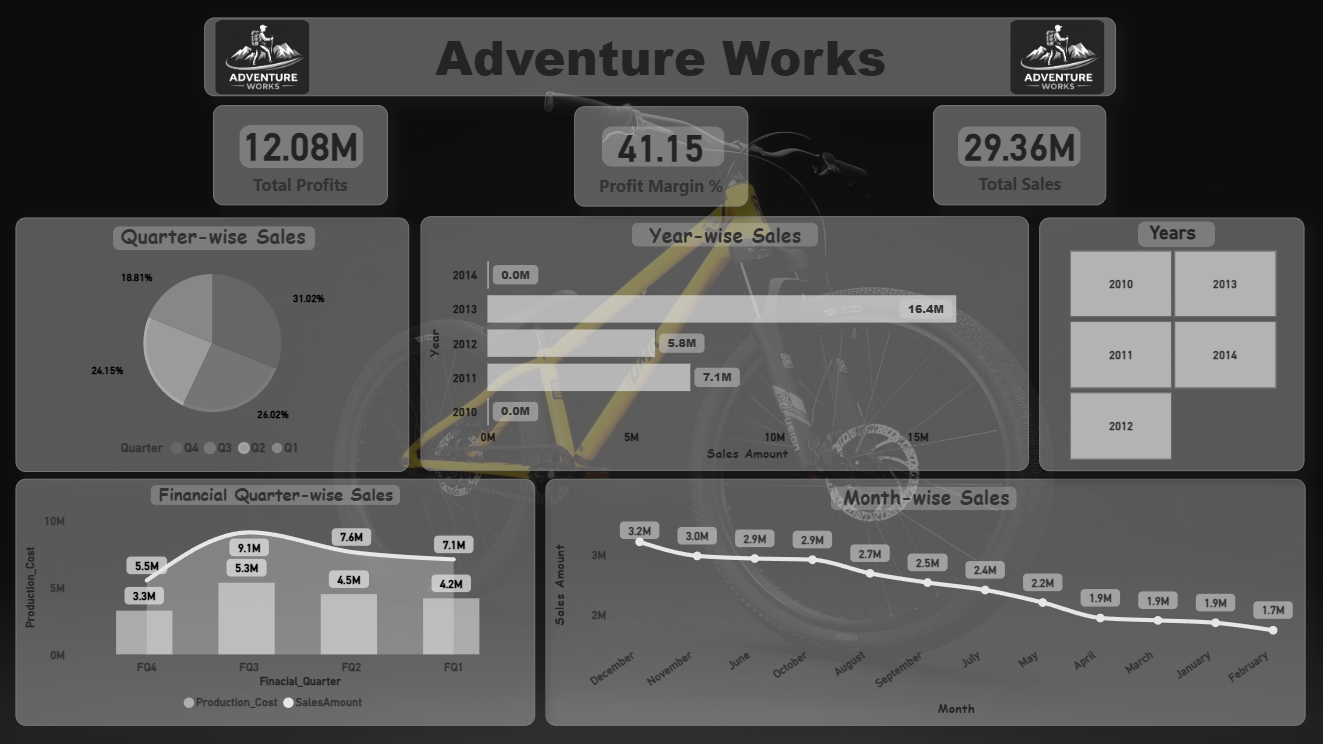

What the dashboard file says about the page in this screenshot:
{"tool":"powerbi","page":{"name":"Page 1","canvas":[1280,720],"ordinal":5},"visuals":[{"type":"shape","box":[146.7,468.3,240.9,19.6],"z":0},{"type":"shape","box":[612,214.7,180,23.6],"z":1000},{"type":"shape","box":[110.6,218.2,195.1,23],"z":2000},{"type":"shape","box":[803.4,469.6,179.8,23.2],"z":3000},{"type":"textbox","title":"Adventure Works","box":[199.4,16.4,879.8,75.7],"z":4000},{"type":"barChart","title":"Year-wise Sales","fields":{"Category":["Financial_sales.Year"],"Y":["Sum(Financial_sales.SalesAmount)"]},"box":[407.8,209.2,586.9,245.8],"z":5000},{"type":"lineChart","title":"Month-wise Sales","fields":{"Category":["Financial_sales.Month_Full_Name"],"Y":["Sum(Financial_sales.SalesAmount)"]},"box":[528.3,462.2,733.7,238.5],"z":6000},{"type":"pieChart","title":"Quarter-wise Sales","fields":{"Category":["Financial_sales.Quarter"],"Y":["Sum(Financial_sales.SalesAmount)"]},"box":[17.1,210.3,380.3,245.8],"z":7000},{"type":"lineStackedColumnComboChart","title":"Financial Quarter-wise Sales","fields":{"Category":["Financial_sales.Finacial_Quarter"],"Y2":["Sum(Financial_sales.SalesAmount)"],"Y":["Sum(Financial_sales.Production_Cost)"]},"box":[17.1,462.2,501.4,238.5],"z":8000},{"type":"shape","box":[232.3,121.1,119.8,41.6],"z":9000},{"type":"card","title":"Total Profits","fields":{"Values":["Sum(Financial_sales.Profit)"]},"box":[207.9,101.5,168.8,96.6],"z":10000},{"type":"shape","box":[926.9,122.3,118.6,39.1],"z":11000},{"type":"card","title":"Total Sales","fields":{"Values":["Sum(Financial_sales.Sales_Amount)"]},"box":[902.5,101.5,167.5,96.6],"z":12000},{"type":"shape","box":[583.2,122.4,118.7,39.1],"z":13000},{"type":"card","title":"Total Sales","fields":{"Values":["DimDate.Profit Margin %"]},"box":[556.7,102.2,167.9,97.2],"z":14000},{"type":"shape","box":[1099.8,213.5,74.5,24.8],"z":15000},{"type":"slicer","title":"Years","fields":{"Values":["Financial_sales.Year"]},"box":[1005.2,210.5,256.2,244.4],"z":16000},{"type":"image","box":[207.5,19.3,95.3,72.4],"z":17000},{"type":"image","box":[974.8,19.3,95.3,72.4],"z":18000}]}

Visuals, with their boxes in screenshot pixels (x1, y1, x2, y2), scaled from the page's 1280x720 canvas onto the 1323x744 screenshot:
shape: detection(152, 484, 401, 504)
shape: detection(633, 222, 819, 246)
shape: detection(114, 225, 316, 249)
shape: detection(830, 485, 1016, 509)
"Adventure Works" textbox: detection(206, 17, 1115, 95)
"Year-wise Sales" barChart: detection(421, 216, 1028, 470)
"Month-wise Sales" lineChart: detection(546, 478, 1304, 724)
"Quarter-wise Sales" pieChart: detection(18, 217, 411, 471)
"Financial Quarter-wise Sales" lineStackedColumnComboChart: detection(18, 478, 536, 724)
shape: detection(240, 125, 364, 168)
"Total Profits" card: detection(215, 105, 389, 205)
shape: detection(958, 126, 1081, 167)
"Total Sales" card: detection(933, 105, 1106, 205)
shape: detection(603, 126, 725, 167)
"Total Sales" card: detection(575, 106, 749, 206)
shape: detection(1137, 221, 1214, 246)
"Years" slicer: detection(1039, 218, 1304, 470)
image: detection(214, 20, 313, 95)
image: detection(1008, 20, 1106, 95)
